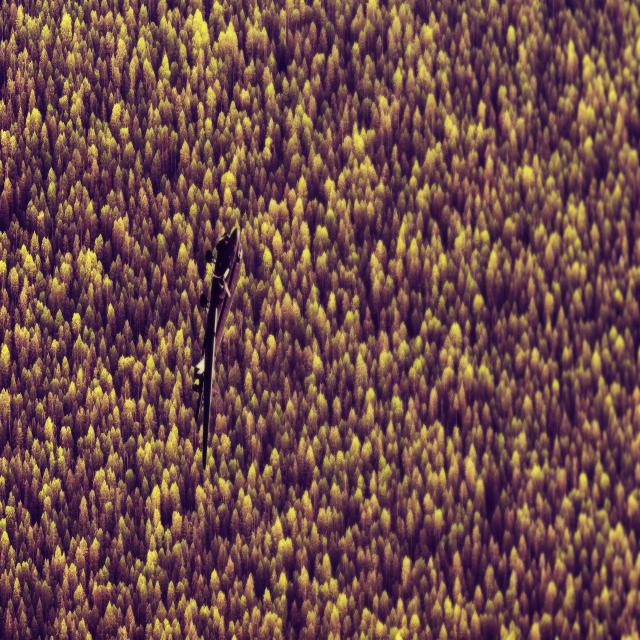airplane: (191, 223, 243, 470)
